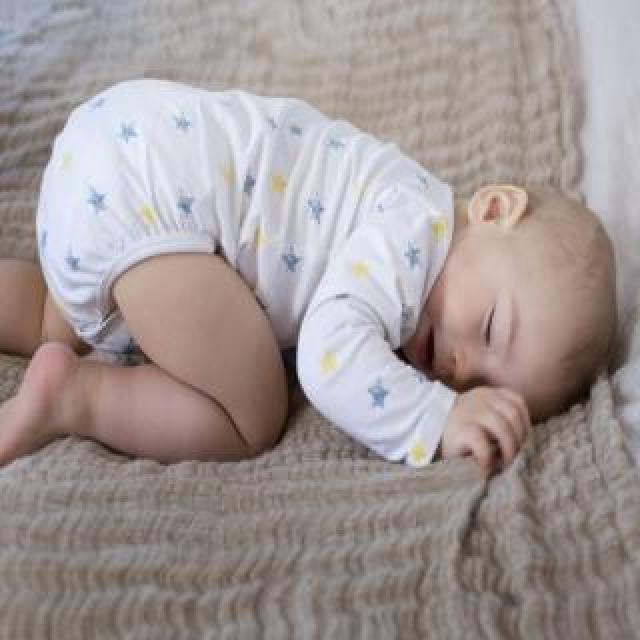baby: (0, 78, 616, 472)
